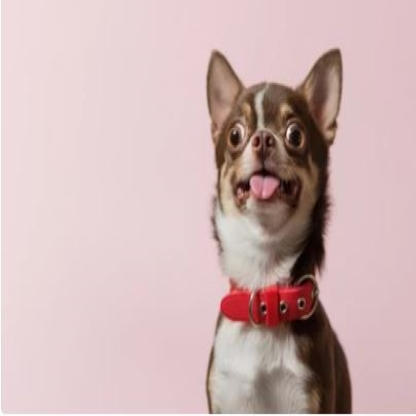chihuahua: (196, 41, 357, 413)
